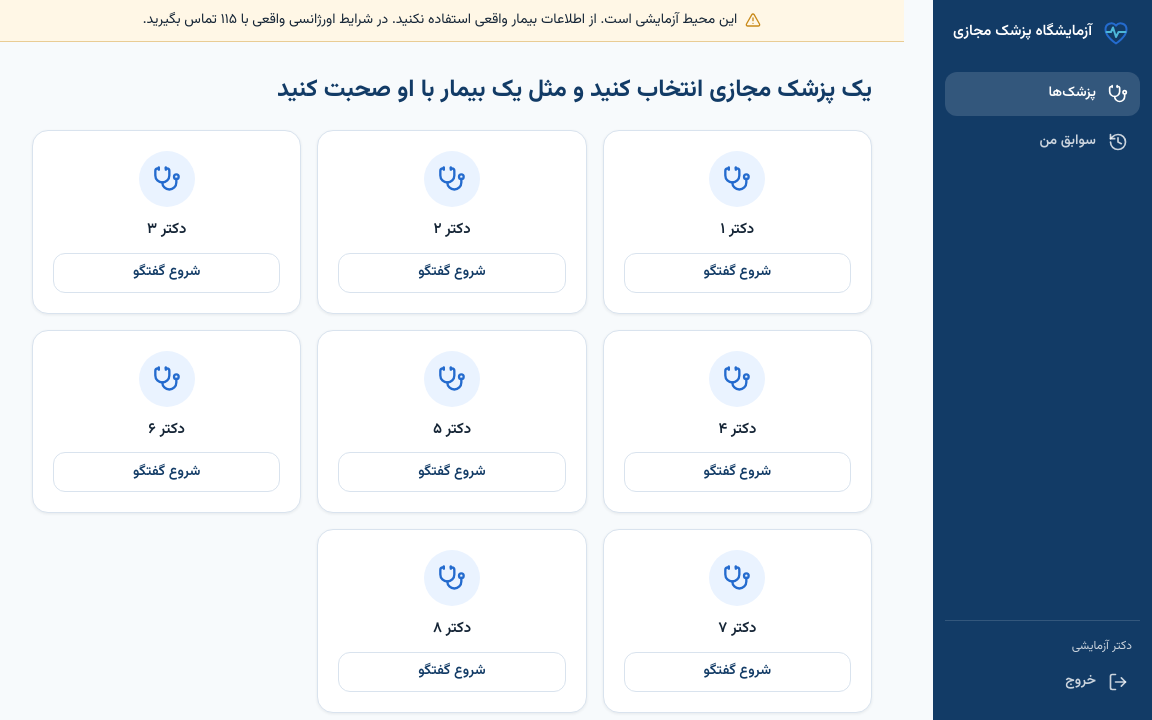
Test case: logout › clears the stored session and returns to /login
Expected: the heading "یک پزشک مجازی انتخاب کنید و مثل یک بیمار با او صحبت کنید" is shown, [277,70,872,108]
Step 1. Click the button "خروج" → (1042, 682), box [945,660,1140,704]
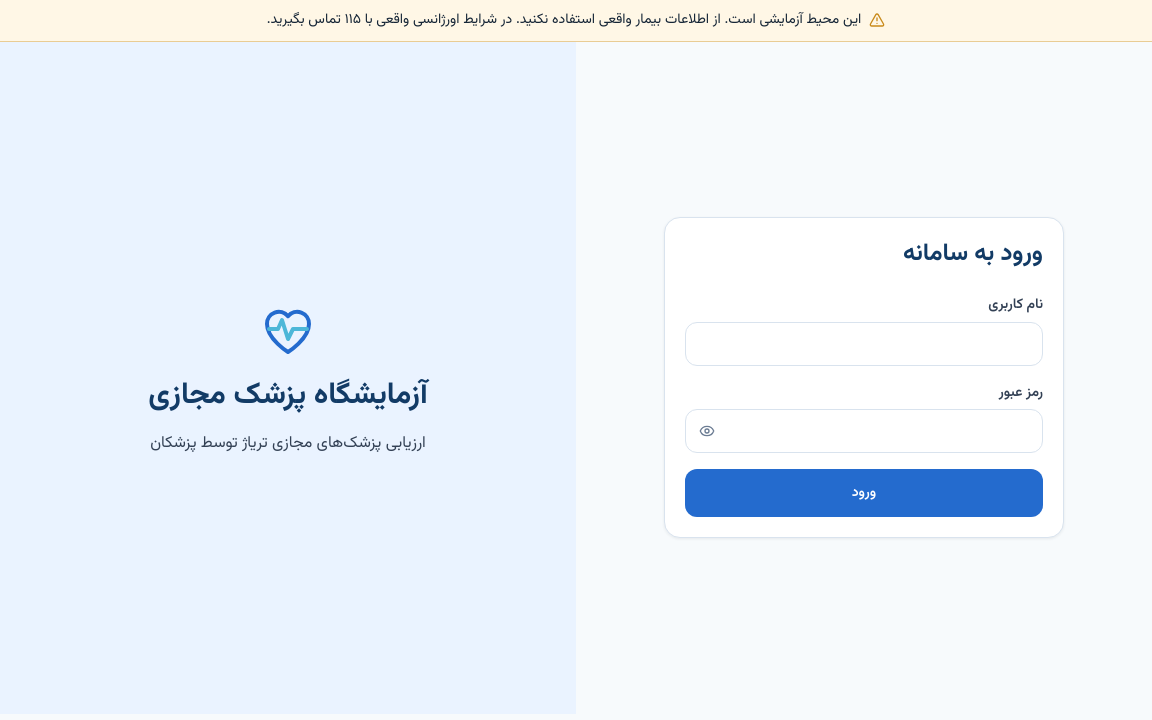
Expected: the button "ورود" is shown, [685,470,1043,518]
